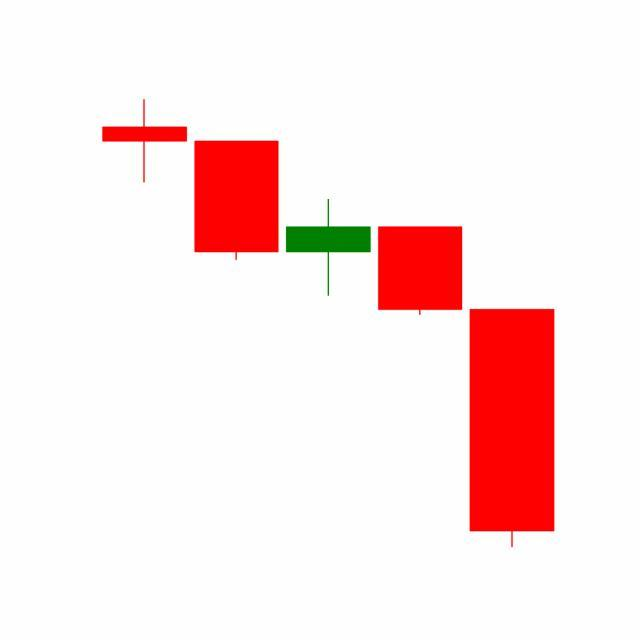Marubozu: (374, 225, 468, 317)
